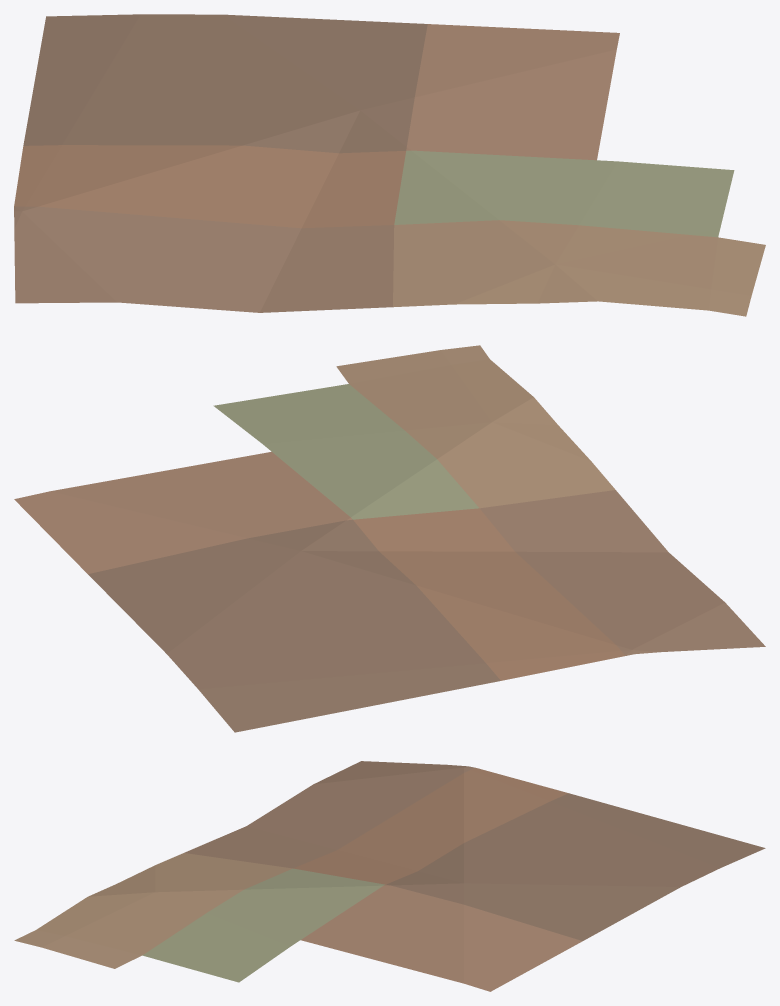
The model's file is farm_-11_7_soil.glb.
3 renders of one model, top to bottom at view 1: azimuth 30°, elevation 25°; view 2: azimuth 150°, elevation 25°; view 3: azimuth 270°, elevation 25°, orthographic. The views are drawn at different scales.
Parts seen in each view (by area): view 1: geometry_0; view 2: geometry_0; view 3: geometry_0.
Boxes of the visible parts, x1=… form: geometry_0: x1=14, y1=14, x2=765, y2=316; geometry_0: x1=14, y1=345, x2=765, y2=732; geometry_0: x1=14, y1=761, x2=765, y2=991.
Bounding box in the file's own units: 162 × 10.27 × 195.
